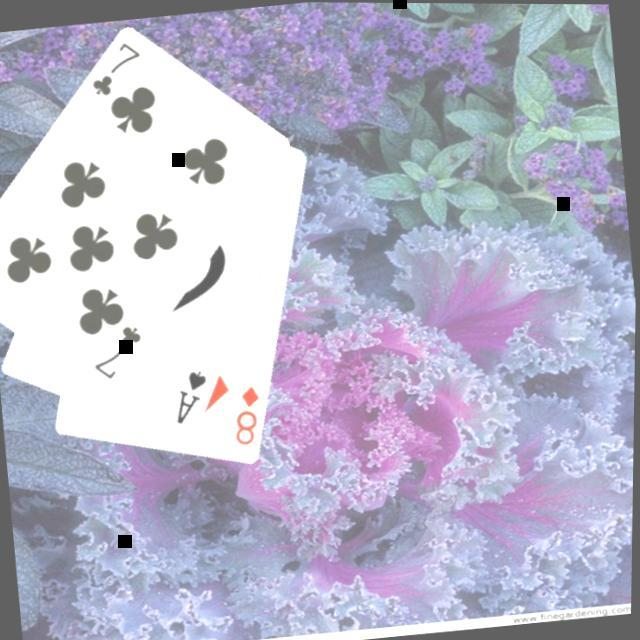7C: (82, 36, 147, 100), (85, 320, 148, 384)
8D: (226, 380, 268, 449)
AS: (167, 366, 215, 428)
